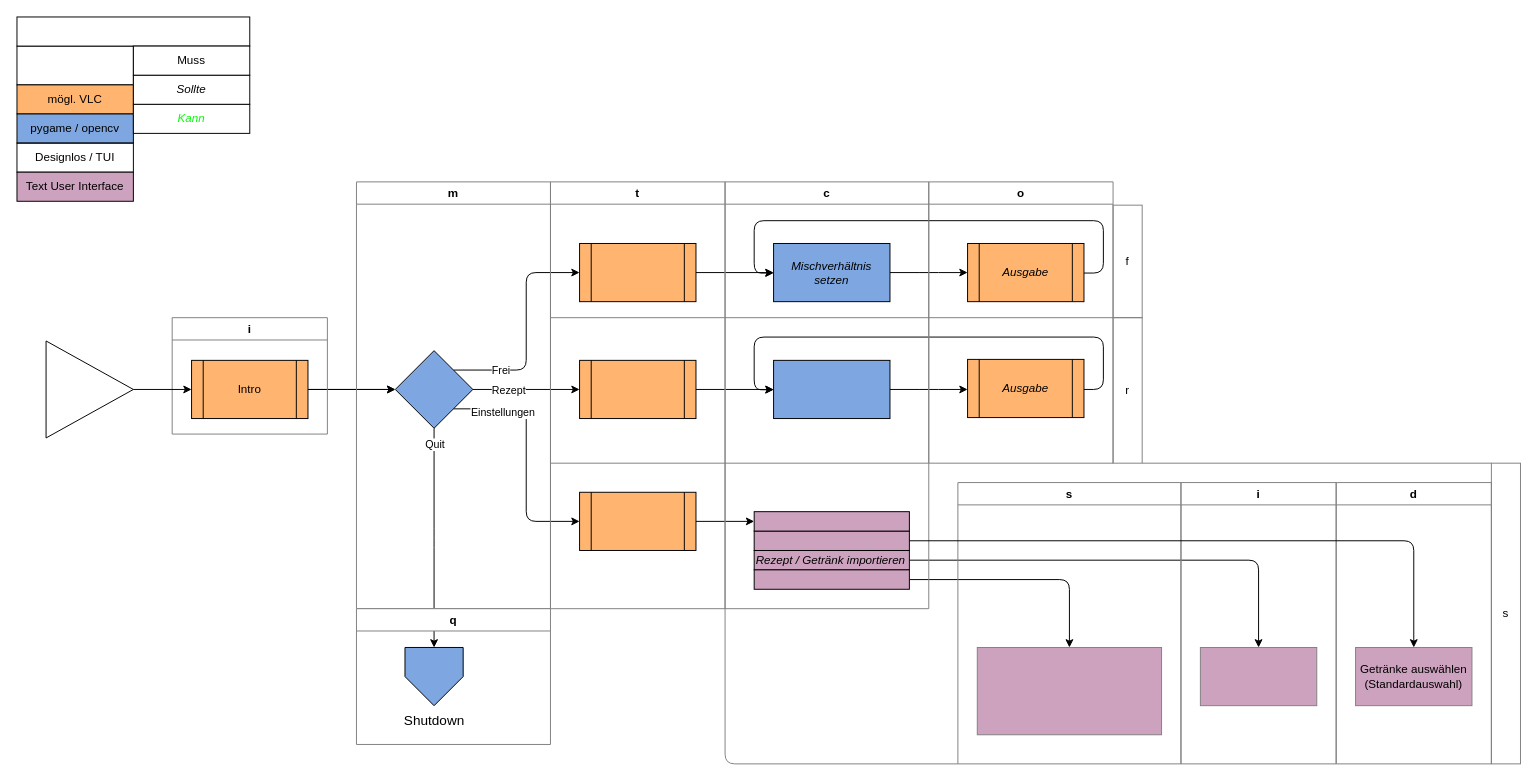
This 1537x782 diagram has some shape labels left out. Here are the shapes that lost their labels. From the top down, the centre of each, then its label:
[133,31]: Legende
[74,65]: Wiedergabe mit... / Design
[637,272]: Übergang Frei
[89,389]: Boot
[433,389]: Hauptmenü
[637,389]: Übergang Rezept
[831,389]: Auswahl Rezept
[637,520]: Übergang Settings
[831,521]: Settings
[831,540]: Getränke einstellen
[831,579]: Stats
[1069,691]: Statistiken Cocktails gemischt Menge ausgegeben etc.
[1258,676]: Dateiauswahl
